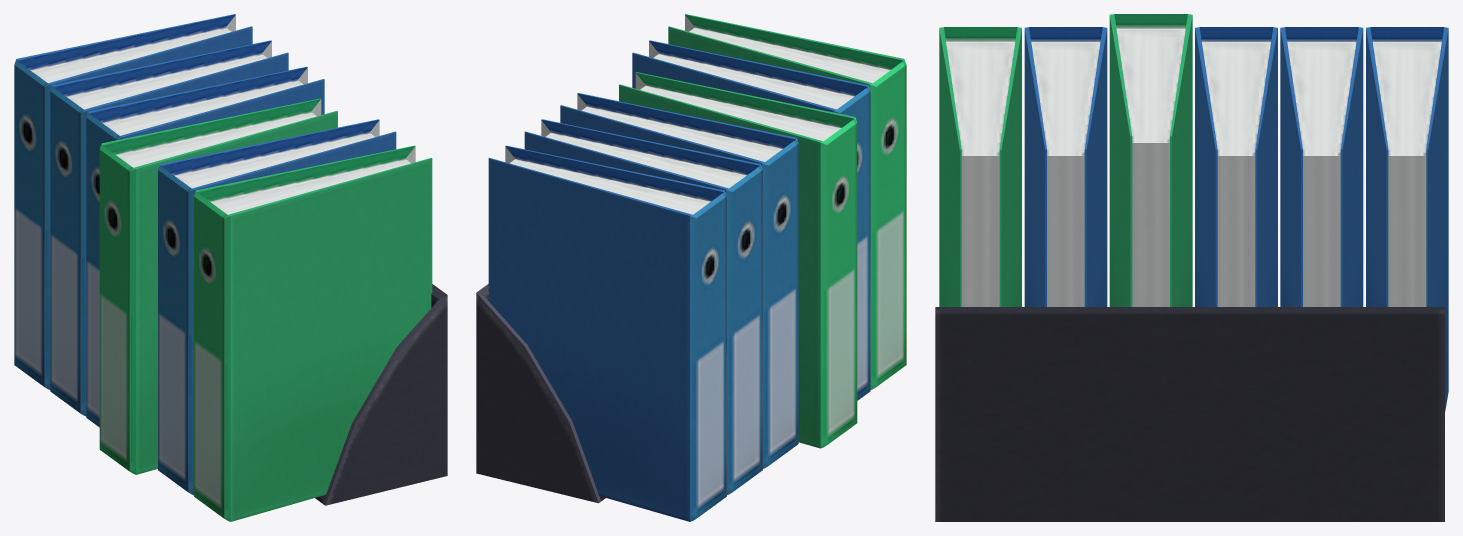
The model's file is ZhiBanShi_01_wenjianjia_01.FBX.
The picture shows the model from 3 angles, left to right: view 1: azimuth 30°, elevation 25°; view 2: azimuth 150°, elevation 25°; view 3: azimuth 270°, elevation 25°; orthographic projection. The views are drawn at different scales.
Parts seen in each view (by area): view 1: ZhiBanShi_wenjianjia_01; view 2: ZhiBanShi_wenjianjia_01; view 3: ZhiBanShi_wenjianjia_01.
Boxes of the visible parts, box(x1,y1,x2,y2) form: ZhiBanShi_wenjianjia_01: box(14, 14, 447, 521); ZhiBanShi_wenjianjia_01: box(476, 14, 906, 521); ZhiBanShi_wenjianjia_01: box(935, 14, 1448, 521).
Size of the model in its own units: 136 by 168 by 211.
